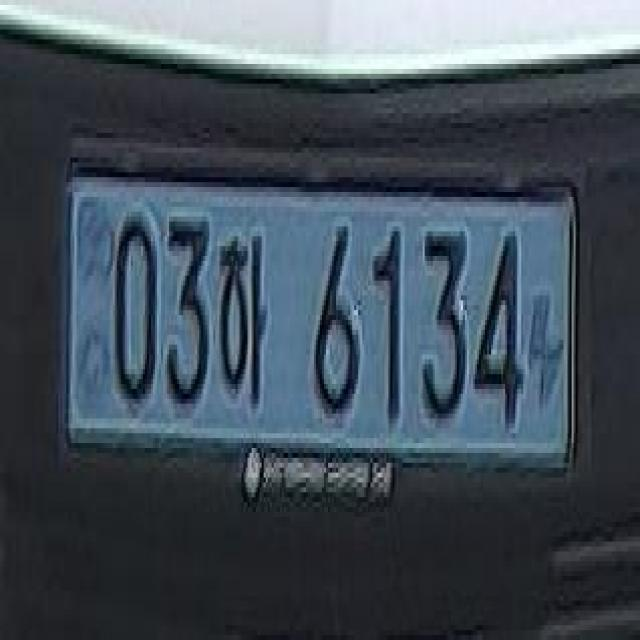EV_plate: (56, 140, 592, 528)
